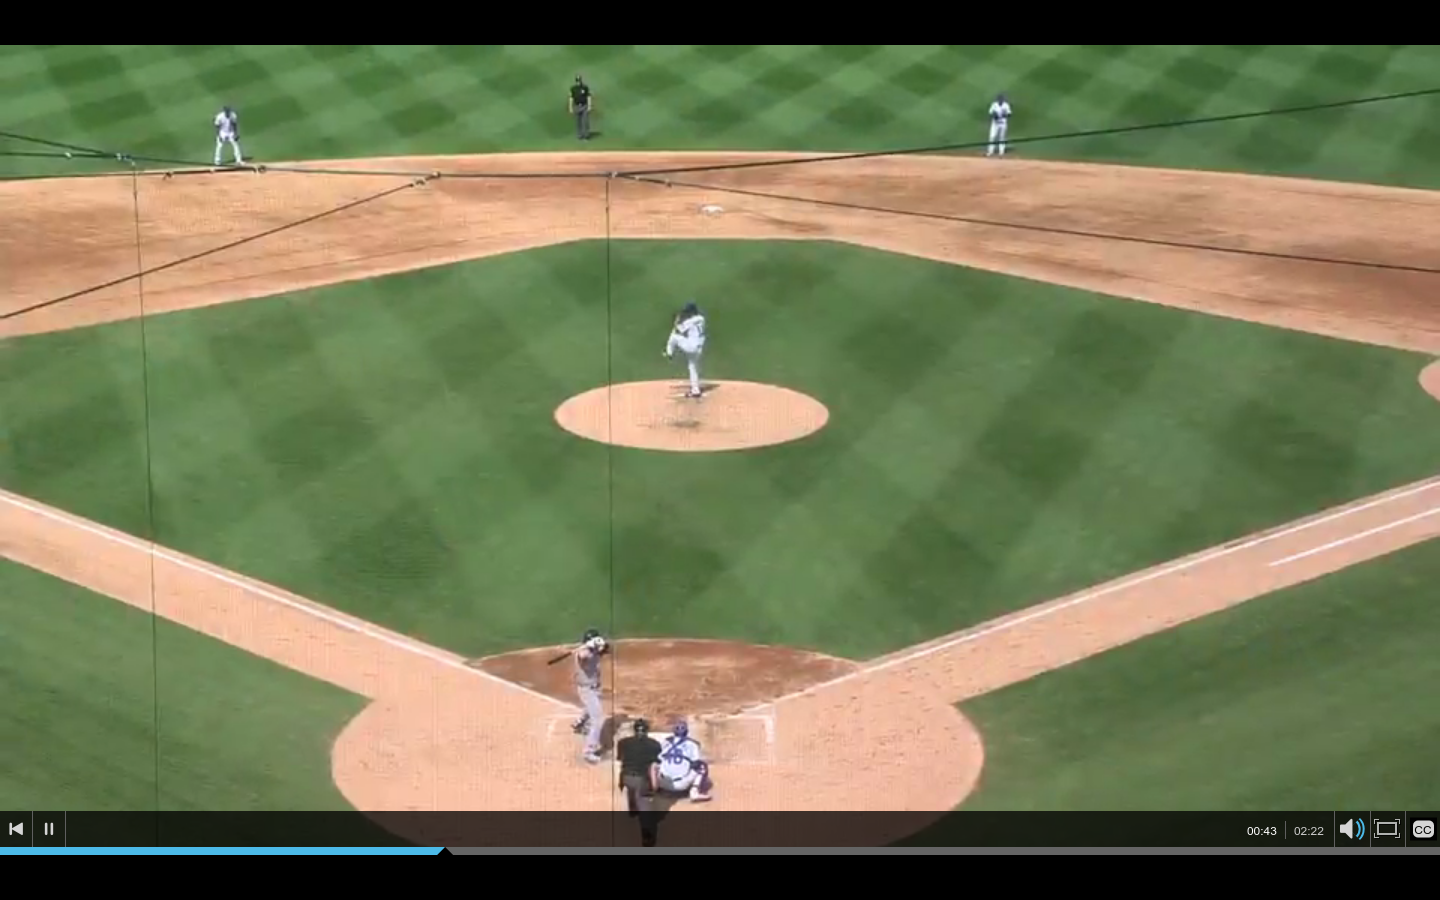baseball bat: (541, 645, 598, 668)
baseball player: (570, 632, 613, 762), (653, 716, 715, 803), (661, 296, 708, 406), (208, 100, 250, 168), (990, 89, 1015, 159)
referee: (616, 717, 659, 843), (564, 74, 596, 142)
